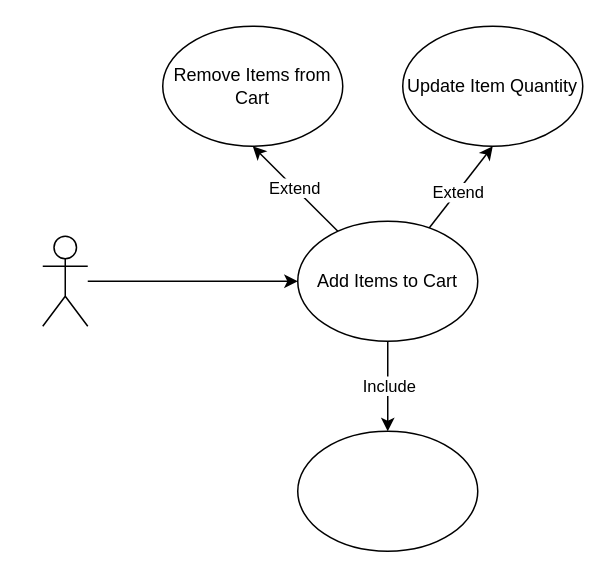
Image size: 609x578. Some labels were removed from this diagram. The centre of each missing label's shape, as x and y in pixels:
Customer: the point at 64,280
View Cart: the point at 387,490
